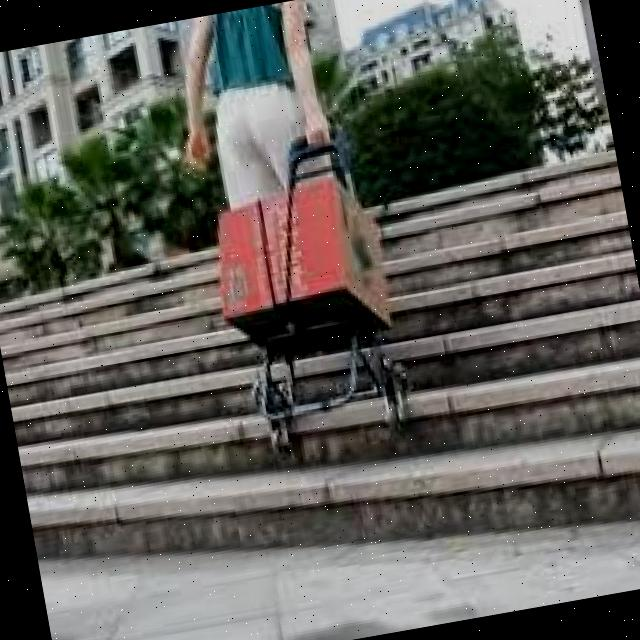stairs: (0, 143, 640, 635)
